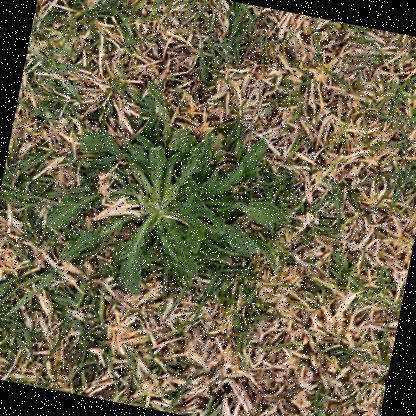Weeds: (35, 73, 311, 321)
